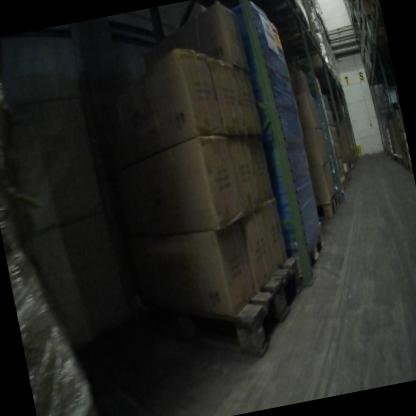pallet: (144, 255, 314, 379), (275, 225, 338, 307), (278, 22, 320, 62), (264, 3, 311, 38), (314, 184, 346, 224), (241, 0, 303, 19), (328, 173, 350, 202), (368, 5, 384, 29), (393, 150, 408, 168), (368, 0, 381, 8), (403, 159, 412, 170)
